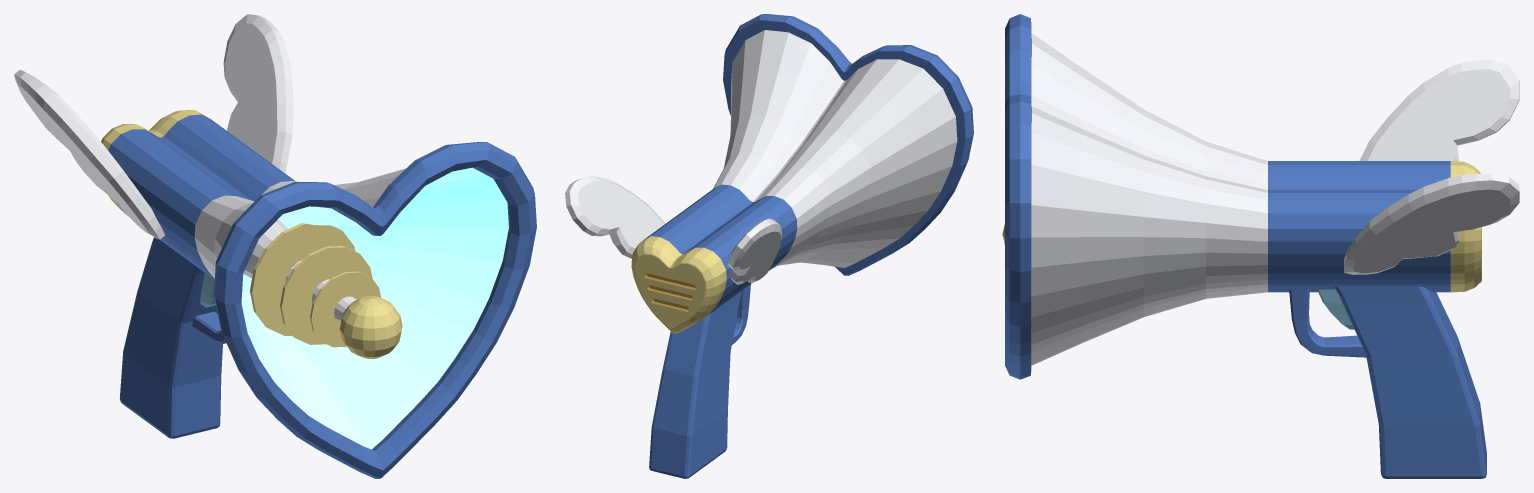
The model's file is weapon.fbx.
3 views of the same model, side by side, from view 1: azimuth 30°, elevation 25°; view 2: azimuth 150°, elevation 25°; view 3: azimuth 270°, elevation 25° (orthographic). The views are drawn at different scales.
Parts seen in each view (by area): view 1: Cube.001; view 2: Cube.001; view 3: Cube.001.
Boxes of the visible parts, x1,y1,x2,y2 form: Cube.001: [14, 14, 536, 478]; Cube.001: [565, 14, 973, 478]; Cube.001: [1002, 14, 1519, 478].
Size of the model in its own units: 24.37 by 29.34 by 33.98.
